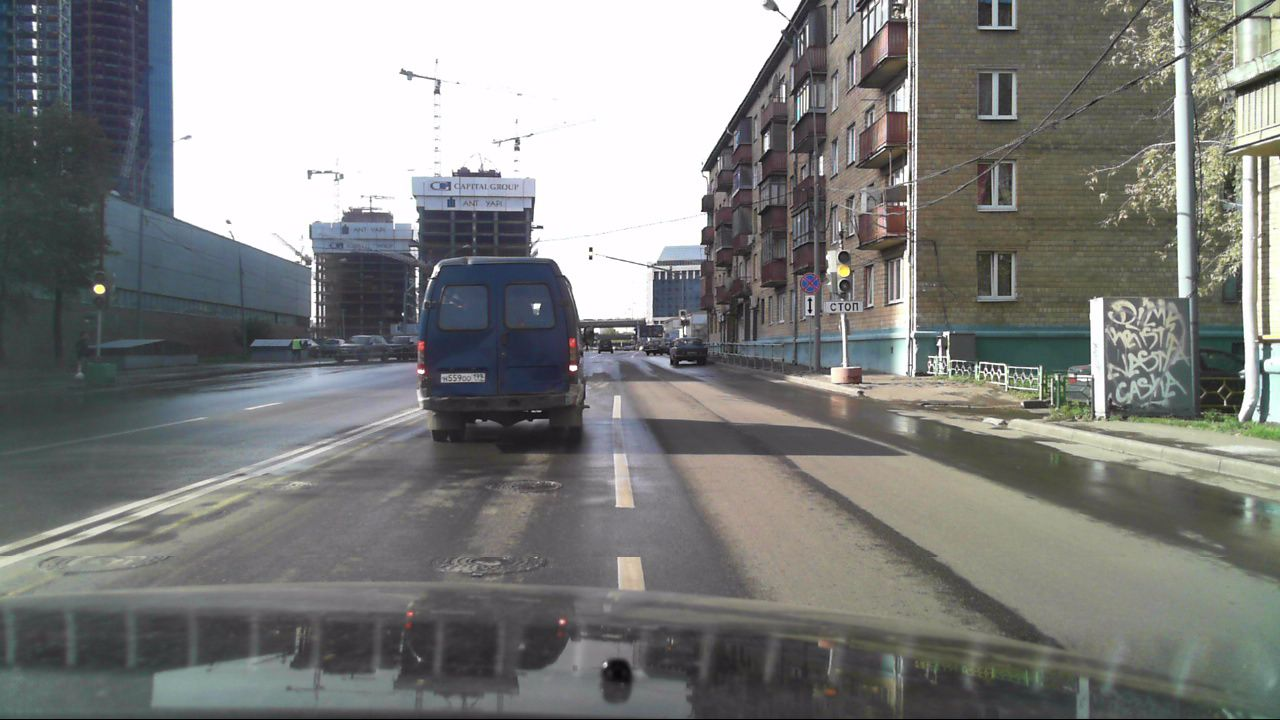No Parking: (798, 271, 821, 294)
